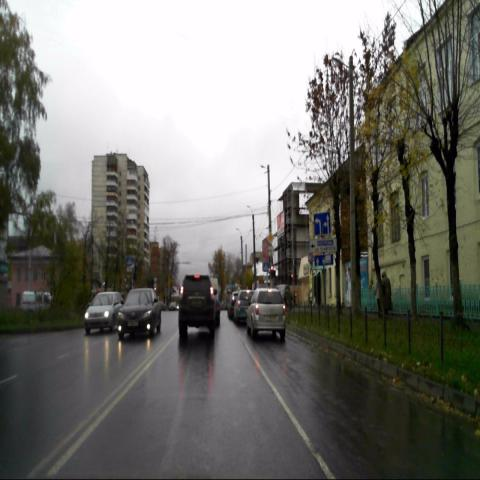6_15_1: (314, 253, 334, 266)
